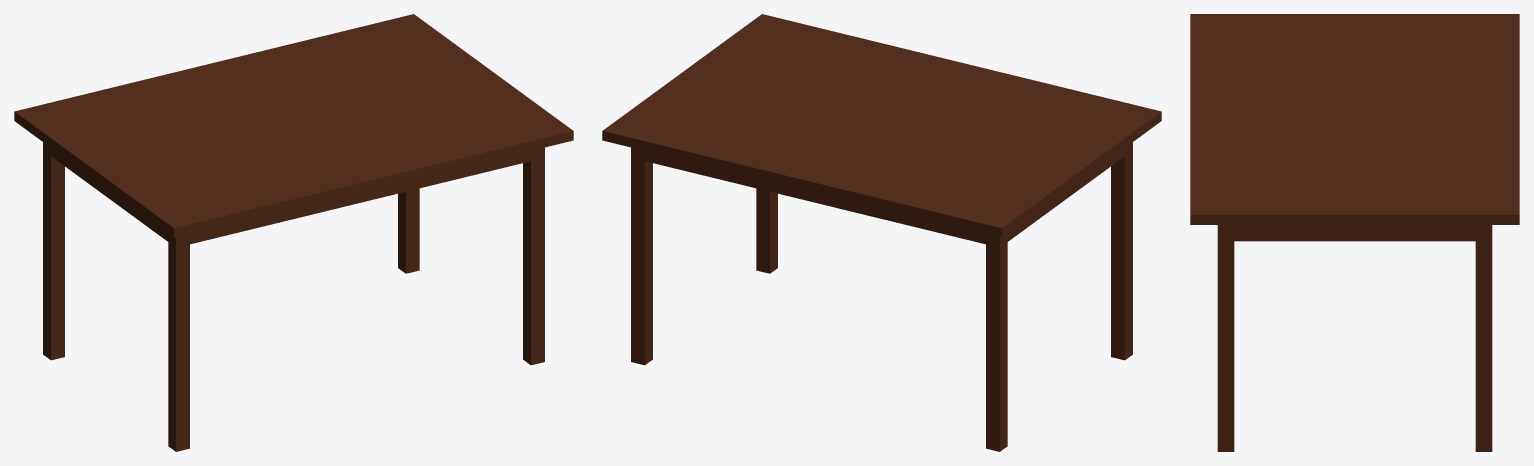
Rendered from Table.fbx.
3 views of the same model, side by side, from view 1: azimuth 30°, elevation 25°; view 2: azimuth 150°, elevation 25°; view 3: azimuth 270°, elevation 25° (orthographic). The views are drawn at different scales.
Visible parts, largest first — view 1: Cube.004; view 2: Cube.004; view 3: Cube.004.
Part boxes in pixels (<box>): Cube.004: <box>14,14,573,451</box>; Cube.004: <box>602,14,1161,451</box>; Cube.004: <box>1190,14,1519,451</box>.
Bounding box in the file's own units: 260 × 148 × 180.
